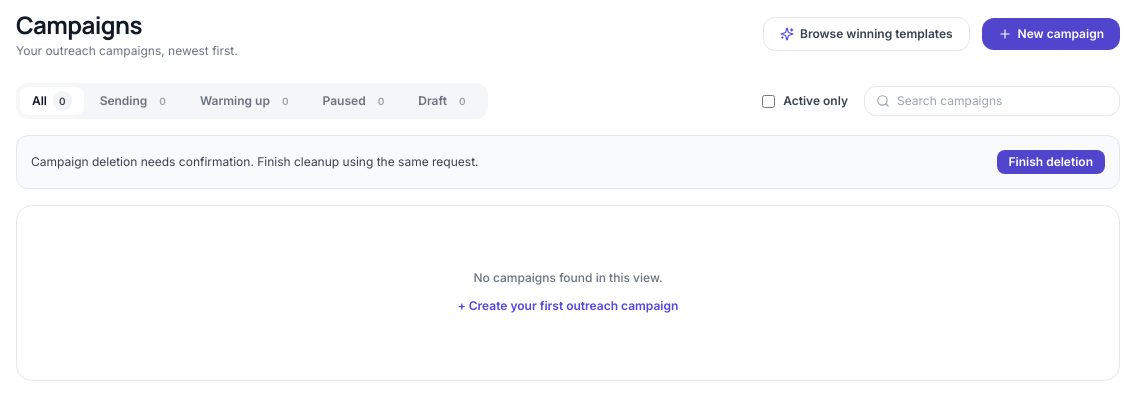
Campaign deletion recovery › clears a stale deletion reference when the server returns 404 on Finish deletion
Click the button "Finish deletion".
click(1051, 162)  # box [996, 150, 1105, 174]
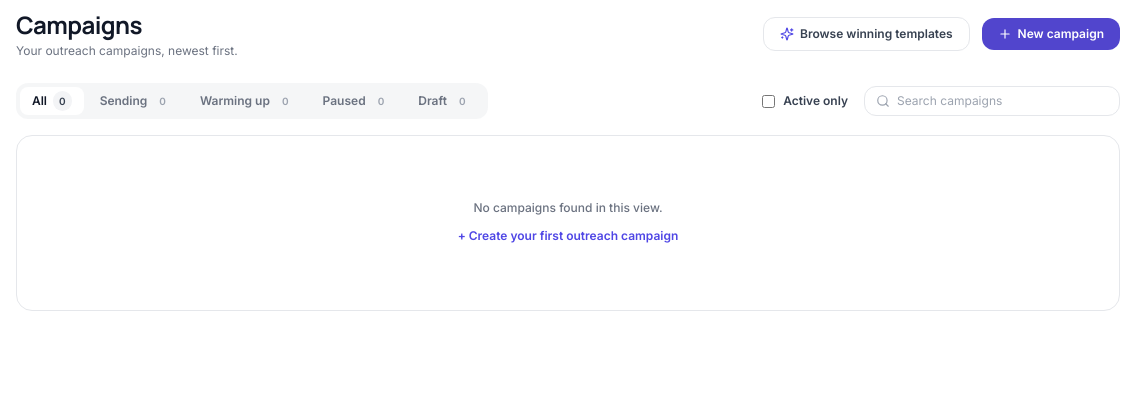
Expected: the text "deletion needs confirmation" is gone
